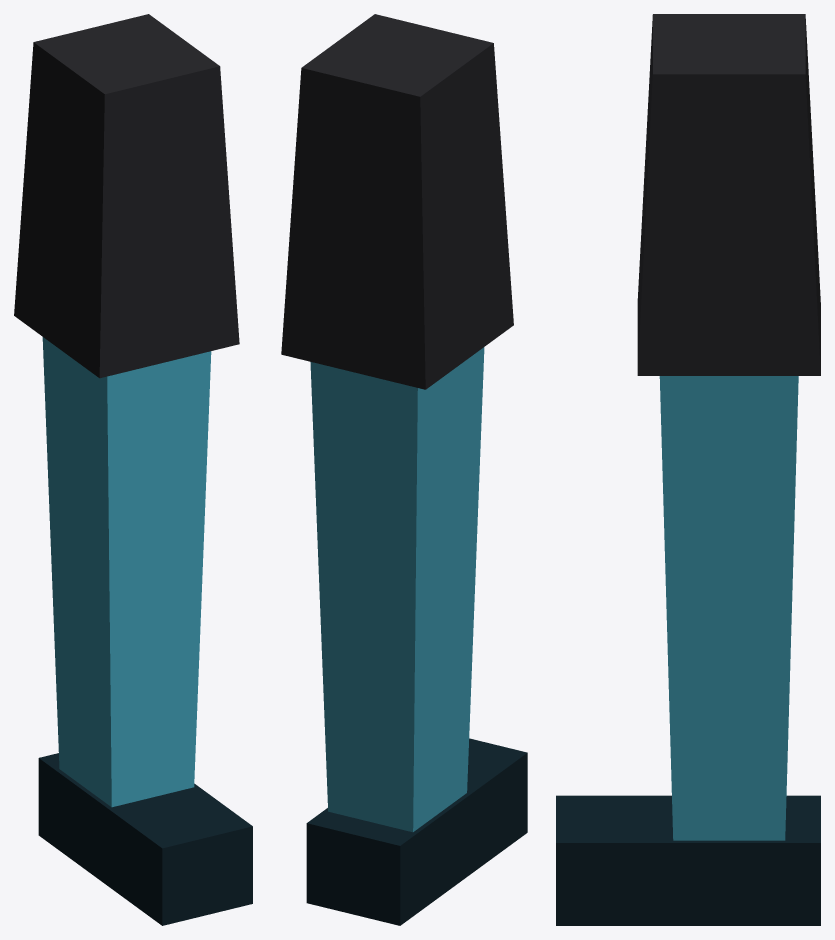
The model's file is leg_k17.glb.
3 views of the same model, side by side, from view 1: azimuth 30°, elevation 25°; view 2: azimuth 150°, elevation 25°; view 3: azimuth 270°, elevation 25° (orthographic). The views are drawn at different scales.
Visible parts, largest first — view 1: leg_kit; view 2: leg_kit; view 3: leg_kit.
Boxes of the visible parts, bbox=[...] form: leg_kit: bbox=[14, 14, 252, 925]; leg_kit: bbox=[281, 14, 527, 925]; leg_kit: bbox=[556, 14, 820, 925].
Size of the model in its own units: 0.17 by 0.93 by 0.26.
